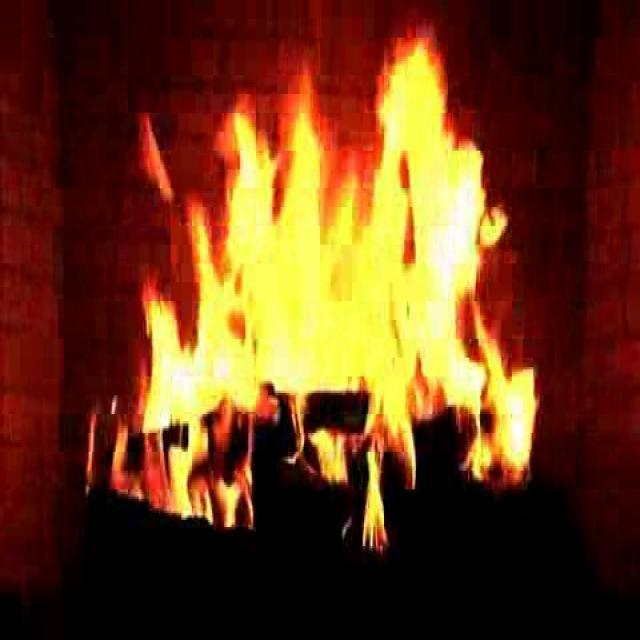Fire: (77, 0, 601, 538)
